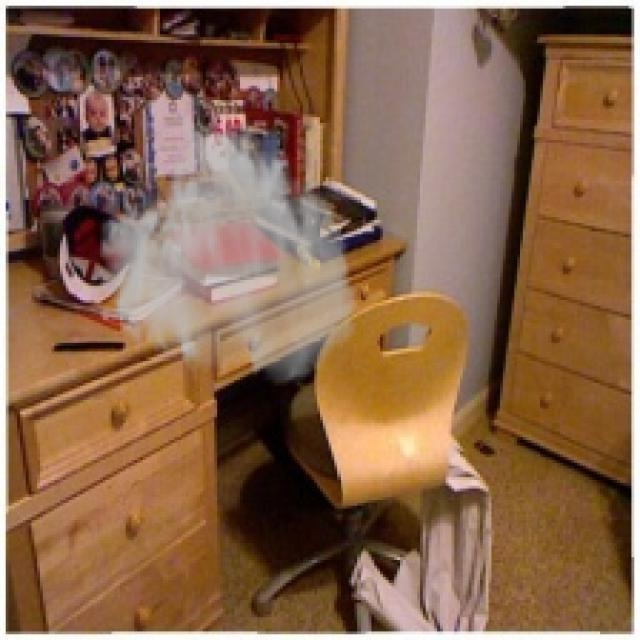Smoke: (94, 112, 360, 388)
